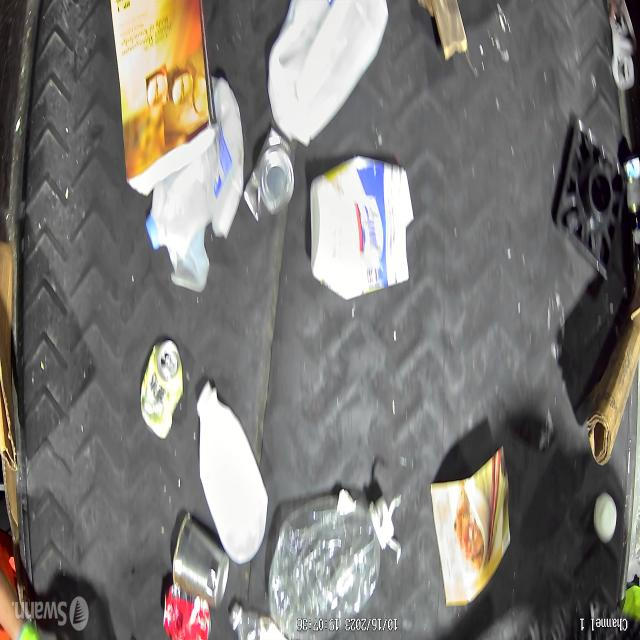can: (172, 510, 230, 611), (243, 130, 297, 224), (138, 338, 184, 443), (161, 582, 212, 640)
milk_jug: (145, 75, 245, 262), (267, 0, 390, 147), (196, 378, 268, 566)
plastic_bottle: (268, 484, 403, 640), (228, 600, 288, 640)
